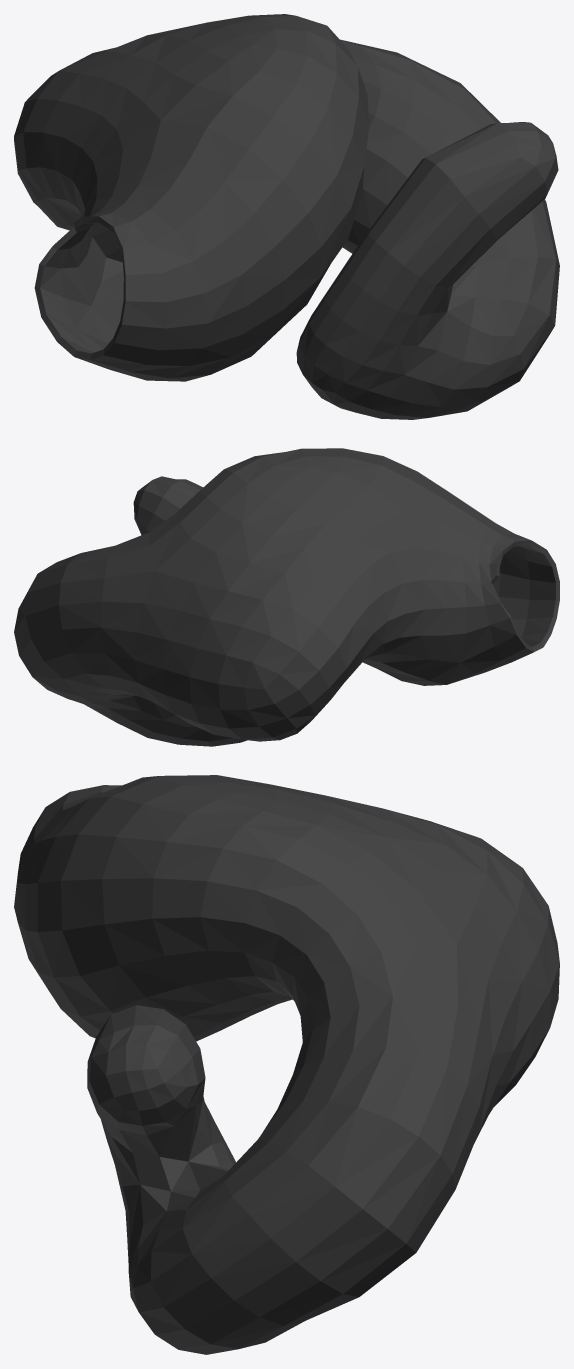
File: colon_caecum_LP.glb
3 renders of one model, top to bottom at view 1: azimuth 30°, elevation 25°; view 2: azimuth 150°, elevation 25°; view 3: azimuth 270°, elevation 25°, orthographic. The views are drawn at different scales.
Visible parts, largest first — view 1: colon_caecum_LP; view 2: colon_caecum_LP; view 3: colon_caecum_LP.
Boxes of the visible parts, x1,y1,x2,y2 form: colon_caecum_LP: (14,14,559,419); colon_caecum_LP: (14,448,559,746); colon_caecum_LP: (14,775,559,1354).
Size of the model in its own units: 1.22 by 0.8354 by 0.9197.
1 material, 1 textured.
